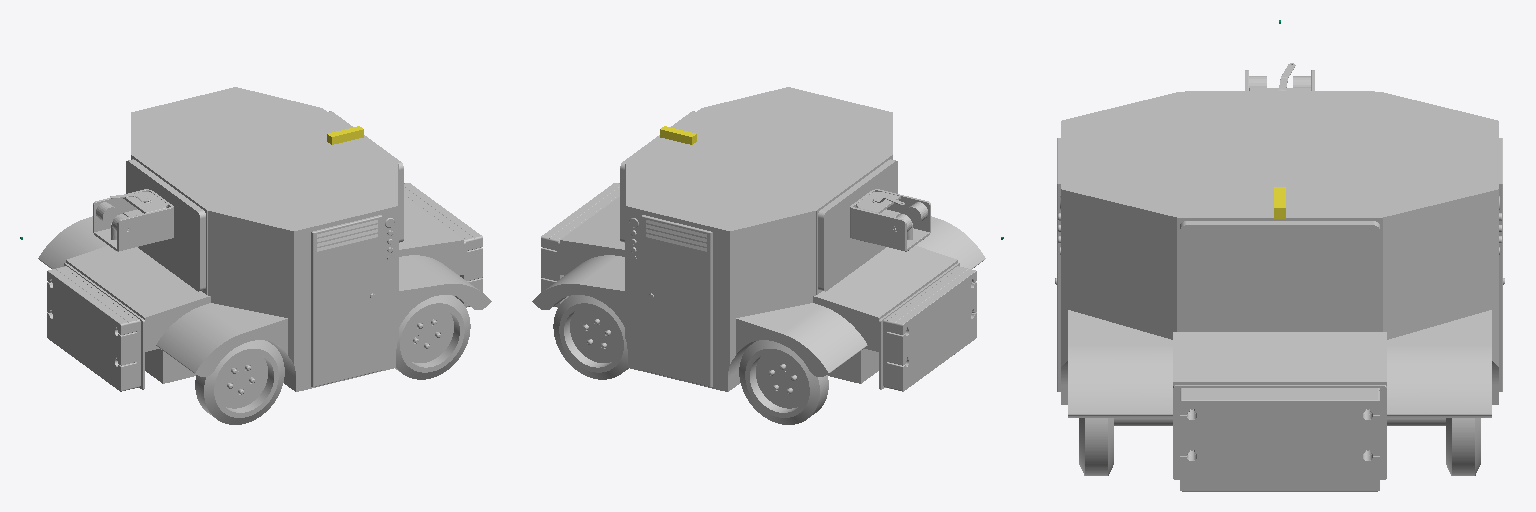
--- Render facts (derived) ---
Views: 3 orthographic renders of the robot side by side, from view 1: azimuth 30°, elevation 25°; view 2: azimuth 150°, elevation 25°; view 3: azimuth 270°, elevation 25°.
Model shunting_vehicle with 29 links and 28 joints (2 revolute, 12 continuous, 2 prismatic, 12 fixed), rooted at base_link, posed all joints at 0.
Visible links, largest first — view 1: body_green_link, mainbody_link, couplerbase_link, rear_right_wheel_white_link, front_right_wheel_white_link, rear_right_wheel_black_link, front_right_wheel_black_link; view 2: body_green_link, mainbody_link, couplerbase_link, rear_left_wheel_white_link, front_left_wheel_white_link, rear_left_wheel_black_link, front_left_wheel_black_link; view 3: body_green_link, mainbody_link, front_right_wheel_black_link, front_left_wheel_black_link, couplerbase_link.
Link boxes in pixels (x1,y1,x2,y2): body_green_link: [47, 87, 482, 391]; mainbody_link: [38, 211, 491, 391]; couplerbase_link: [93, 189, 173, 251]; rear_right_wheel_white_link: [215, 350, 277, 416]; front_right_wheel_white_link: [401, 305, 462, 370]; rear_right_wheel_black_link: [195, 340, 284, 424]; front_right_wheel_black_link: [395, 295, 470, 379]; body_green_link: [541, 87, 976, 391]; mainbody_link: [532, 211, 985, 391]; couplerbase_link: [850, 189, 930, 251]; rear_left_wheel_white_link: [746, 350, 808, 416]; front_left_wheel_white_link: [561, 305, 622, 370]; rear_left_wheel_black_link: [739, 340, 828, 424]; front_left_wheel_black_link: [553, 295, 628, 379]; body_green_link: [1061, 91, 1498, 491]; mainbody_link: [1055, 138, 1504, 417]; front_right_wheel_black_link: [1079, 418, 1113, 475]; front_left_wheel_black_link: [1446, 418, 1480, 475]; couplerbase_link: [1245, 63, 1314, 90].
Size in the robot's own frame: 2.63 by 1.79 by 1.17 metres.
Meshes: 8 distinct files referenced, 11 mesh visuals loaded (5 Collada DAE); not drawn: 4 (reference not matched to a file when rendering).

The robot description file, URDF, robot "shunting_vehicle":
<?xml version="1.0"?>
<robot name="shunting_vehicle">
    
    <material name="silver">
        <color rgba=".75 .75 .875 1"/>
    </material>
    <material name="white">
        <color rgba="1 1 1 1"/>
    </material>
            
    
    <gazebo>
        <plugin name="gazebo_ros_control" filename="libgazebo_ros_control.so">
            <robotNamespace>/shunting_vehicle</robotNamespace>
        </plugin>

        <plugin name="gazebo_ros_imu_controller" filename="libgazebo_ros_imu.so">
            <robotNamespace>/shunting_vehicle</robotNamespace>
            <topicName>imu/data</topicName>
            <serviceName>imu/service</serviceName>
            <bodyName>base_link</bodyName>
            <gaussianNoise>0</gaussianNoise>
            <rpyOffsets>0 0 0</rpyOffsets>
            <updateRate>10.0</updateRate>
            <alwaysOn>true</alwaysOn>
            <gaussianNoise>0</gaussianNoise>
        </plugin>
    </gazebo>
    
    <link name="base_link">
        <collision>
            <origin rpy="0 0 0" xyz="0 0 0"/>
            <geometry>
                <box size=".01 .01 .01"/>
            </geometry>
        </collision>
        
    </link>
    
    
    <!-- _______________________________________________ Body _______________________________________________ -->
    <link name="mainbody_link">
        <visual>
            <origin xyz="0 0 -0.4" rpy="0 0 0"/>
            <geometry>
                <mesh filename="package://shunting_vehicle_description/meshes/shunting_vehicle/body_white.dae" scale="1 1 1"/>
            </geometry>
        </visual>

        <collision>
            <origin xyz="0 0 0.4" rpy="0 0 0"/>
            <geometry>
                <box size="1.2 1.8 0.9"/>
            </geometry>
        </collision>


		<collision name='front_collision'>
			<origin rpy="0 0 0" xyz="0.85 0 0.14"/>
           	<geometry>
           		<box size="0.5 0.84 0.45"/> 
       		</geometry>
       	</collision>

       	<collision name='rear_collision'>
           	<origin rpy="0 0 0" xyz="-0.85 0 0.14"/>
           	<geometry>
           		<box size="0.5 0.84 0.45"/>
       		</geometry>
        </collision>
        <inertial>
            <origin xyz="0 0 0.35" rpy="0 0 0"/>
            <mass value="3400"/>
            <inertia ixx="700" iyy="1000" izz="1200" ixy="0" ixz="0" iyz="0"/>
        </inertial>
    </link>
    <gazebo reference="mainbody_link">
        <material>Gazebo/White</material>
    </gazebo>
    
    <joint name="fixed" type="fixed">
        <parent link="base_link"/>
        <child link="mainbody_link"/>
        <origin xyz="0 0 0" rpy="0 0 0"/>
    </joint>
    
    <link name="body_green_link">
        <visual>
            <origin xyz="0 0 -0.4" rpy="0 0 0"/>
            <geometry>
                <mesh filename="package://shunting_vehicle_description/meshes/shunting_vehicle/body_green5.dae" scale="1 1 1"/>
            </geometry>
        </visual>
    </link>
    <gazebo reference="body_green_link">
        <material>Gazebo/Green</material>
    </gazebo>
    
    <joint name="body_green_fixed" type="fixed">
        <parent link="base_link"/>
        <child link="body_green_link"/>
        <origin xyz="0 0 0" rpy="0 0 0"/>
    </joint>
    
    
    <!-- _______________________________________________ Gummirad vorne rechts _______________________________________________ -->

	<link name="front_right_wheel_white_link">
        <visual>
            <origin xyz="0 0 .35" rpy="-1.570796327 0 0"/>
            <geometry>
                <mesh filename="package://shunting_vehicle_description/meshes/shunting_vehicle/wheel_white.dae" scale="1 1 1"/>
            </geometry>
        </visual>
        <collision>
            <geometry>
                <cylinder length=".7" radius=".045"/>
            </geometry>
        </collision>

        <inertial>
            <mass value="35"/>
            <inertia ixx="1.447" iyy="1.447" izz=".035" ixy="0" ixz="0" iyz="0"/>
        </inertial>
    </link>

    <gazebo reference="front_right_wheel_white_link">
        <material>Gazebo/White</material>
    </gazebo>
    
    <joint name="front_right_wheel_white_joint" type="continuous">
        <parent link="mainbody_link"/>
        <child link="front_right_wheel_white_link"/>
        <origin rpy="-1.5708 0 0" xyz="0.575 -.35 0"/>
        <limit effort="2500" velocity="100" />
		<joint_properties damping="0.7"/>
		<axis xyz="0 0 1"/>
    </joint>
    
    <link name="front_right_wheel_black_link">
        <visual>
            <origin xyz="0 0 .73" rpy="-1.570796327 0 0"/>
            <geometry>
                <mesh filename="package://shunting_vehicle_description/meshes/shunting_vehicle/wheel_black.dae" scale="1 1 1"/>
            </geometry>
        </visual>
        <collision>
            <geometry>
                <cylinder length=".12" radius=".246"/>
            </geometry>
        </collision>
        <inertial>
            <mass value="30"/>
            <inertia ixx=".49" iyy=".49" izz=".91" ixy="0" ixz="0" iyz="0"/>
        </inertial>
    </link>
    <gazebo reference="front_right_wheel_black_link">
        <material>Gazebo/DarkGrey</material>
        <mu1 value="0.9"/>
        <mu2 value="0.9"/>
        <minDepth>0.01</minDepth>
        <!-- <slip1>0</slip1>
        <slip2>0</slip2> -->
    </gazebo>
    
    <joint name="front_right_wheel_black_joint" type="fixed">
        <parent link="front_right_wheel_white_link"/>
        <child link="front_right_wheel_black_link"/>
        <origin rpy="0 0 0" xyz=".0 0 -.38"/>
    </joint>

    <!-- _______________________________________________ Gummirad vorne links _______________________________________________ -->
    

    <link name="front_left_wheel_white_link">
        <visual>
            <origin xyz="0 0 -.35" rpy="1.570796327 0 0"/>
            <geometry>
                <mesh filename="package://shunting_vehicle_description/meshes/shunting_vehicle/wheel_white.dae" scale="1 1 1"/>
            </geometry>
        </visual>
        <collision>
            <geometry>
                <cylinder length=".7" radius=".045"/>
            </geometry>
        </collision>

        <inertial>
            <mass value="35"/>
            <inertia ixx="1.447" iyy="1.447" izz=".035" ixy="0" ixz="0" iyz="0"/>
        </inertial>
    </link>

    <gazebo reference="front_left_wheel_white_link">
        <material>Gazebo/White</material>
    </gazebo>
    
    <joint name="front_left_wheel_white_joint" type="continuous">
        <parent link="mainbody_link"/>
        <child link="front_left_wheel_white_link"/>
        <origin rpy="-1.5708 0 0" xyz="0.575 .35 0"/>
        <limit effort="2500" velocity="100" />
		<joint_properties damping="0.7"/>
		<axis xyz="0 0 1"/>
    </joint>
    
    <link name="front_left_wheel_black_link">
        <visual>
            <origin xyz="0 0 -.73" rpy="1.570796327 0 0"/>
            <geometry>
                <mesh filename="package://shunting_vehicle_description/meshes/shunting_vehicle/wheel_black.dae" scale="1 1 1"/>
            </geometry>
        </visual>
        <collision>
            <geometry>
                <cylinder length=".12" radius=".246"/>
            </geometry>
        </collision>
        <inertial>
            <mass value="30"/>
            <inertia ixx=".49" iyy=".49" izz=".91" ixy="0" ixz="0" iyz="0"/>
        </inertial>
    </link>
    <gazebo reference="front_left_wheel_black_link">
        <material>Gazebo/DarkGrey</material>
        <mu1 value="0.9"/>
        <mu2 value="0.9"/>
        <minDepth>0.01</minDepth>
        <!-- <slip1>0</slip1>
        <slip2>0</slip2> -->
    </gazebo>
    
    <joint name="front_left_wheel_black_joint" type="fixed">
        <parent link="front_left_wheel_white_link"/>
        <child link="front_left_wheel_black_link"/>
        <origin rpy="0 0 0" xyz=".0 0 .38"/>
    </joint>
    
    <!-- _______________________________________________ Gummirad hinten rechts _______________________________________________ -->

	<link name="rear_right_wheel_white_link">
        <visual>
            <origin xyz="0 0 .35" rpy="-1.570796327 0 0"/>
            <geometry>
                <mesh filename="package://shunting_vehicle_description/meshes/shunting_vehicle/wheel_white.dae" scale="1 1 1"/>
            </geometry>
        </visual>
        <collision>
            <geometry>
                <cylinder length=".7" radius=".045"/>
            </geometry>
        </collision>

        <inertial>
            <mass value="35"/>
            <inertia ixx="1.447" iyy="1.447" izz=".035" ixy="0" ixz="0" iyz="0"/>
        </inertial>
    </link>

    <gazebo reference="rear_right_wheel_white_link">
        <material>Gazebo/White</material>
    </gazebo>
    
    <joint name="rear_right_wheel_white_joint" type="continuous">
        <parent link="mainbody_link"/>
        <child link="rear_right_wheel_white_link"/>
        <origin rpy="-1.5708 0 0" xyz="-0.575 -.35 0"/>
        <limit effort="2500" velocity="100" />
		<joint_properties damping="0.7"/>
		<axis xyz="0 0 1"/>
    </joint>
    
    <link name="rear_right_wheel_black_link">
        <visual>
            <origin xyz="0 0 .73" rpy="-1.570796327 0 0"/>
            <geometry>
                <mesh filename="package://shunting_vehicle_description/meshes/shunting_vehicle/wheel_black.dae" scale="1 1 1"/>
            </geometry>
        </visual>
        <collision>
            <geometry>
                <cylinder length=".12" radius=".246"/>
            </geometry>
        </collision>
        <inertial>
            <mass value="30"/>
            <inertia ixx=".49" iyy=".49" izz=".91" ixy="0" ixz="0" iyz="0"/>
        </inertial>
    </link>
    <gazebo reference="rear_right_wheel_black_link">
        <material>Gazebo/DarkGrey</material>
        <mu1 value="0.9"/>
        <mu2 value="0.9"/>
        <minDepth>0.01</minDepth>
        <!-- <slip1>0</slip1>
        <slip2>0</slip2> -->
    </gazebo>
    
    <joint name="rear_right_wheel_black_joint" type="fixed">
        <parent link="rear_right_wheel_white_link"/>
        <child link="rear_right_wheel_black_link"/>
        <origin rpy="0 0 0" xyz=".0 0 -.38"/>
    </joint>

    <!-- _______________________________________________ Gummirad hinten links _______________________________________________ -->

	<link name="rear_left_wheel_white_link">
        <visual>
            <origin xyz="0 0 -.35" rpy="1.570796327 0 0"/>
            <geometry>
                <mesh filename="package://shunting_vehicle_description/meshes/shunting_vehicle/wheel_white.dae" scale="1 1 1"/>
            </geometry>
        </visual>
        <collision>
            <geometry>
                <cylinder length=".7" radius=".045"/>
            </geometry>
        </collision>

        <inertial>
            <mass value="35"/>
            <inertia ixx="1.447" iyy="1.447" izz=".035" ixy="0" ixz="0" iyz="0"/>
        </inertial>
    </link>

    <gazebo reference="rear_left_wheel_white_link">
        <material>Gazebo/White</material>
    </gazebo>
    
    <joint name="rear_left_wheel_white_joint" type="continuous">
        <parent link="mainbody_link"/>
        <child link="rear_left_wheel_white_link"/>
        <origin rpy="-1.5708 0 0" xyz="-0.575 .35 0"/>
        <limit effort="2500" velocity="100" />
		<joint_properties damping="0.7"/>
		<axis xyz="0 0 1"/>
    </joint>
    
    <link name="rear_left_wheel_black_link">
        <visual>
            <origin xyz="0 0 -.73" rpy="1.570796327 0 0"/>
            <geometry>
                <mesh filename="package://shunting_vehicle_description/meshes/shunting_vehicle/wheel_black.dae" scale="1 1 1"/>
            </geometry>
        </visual>
        <collision>
            <geometry>
                <cylinder length=".12" radius=".246"/>
            </geometry>
        </collision>
        <inertial>
            <mass value="30"/>
            <inertia ixx=".49" iyy=".49" izz=".91" ixy="0" ixz="0" iyz="0"/>
        </inertial>
    </link>
    <gazebo reference="front_left_wheel_black_link">
        <material>Gazebo/DarkGrey</material>
        <mu1 value="0.9"/>
        <mu2 value="0.9"/>
        <minDepth>0.01</minDepth>
        <!-- <slip1>0</slip1>
        <slip2>0</slip2> -->
    </gazebo>
    
    <joint name="rear_left_wheel_black_joint" type="fixed">
        <parent link="rear_left_wheel_white_link"/>
        <child link="rear_left_wheel_black_link"/>
        <origin rpy="0 0 0" xyz=".0 0 .38"/>
    </joint>
    
    
    <!-- _______________________________________________ Spurführungsrad-Achse vorne _______________________________________________ -->    
    
   
    <link name="front_axle_link">
        <visual>
            <origin xyz="0 0 0" rpy="0 0 0"/>
            <geometry>
                <mesh filename="package://shunting_vehicle_description/meshes/shunting_vehicle/axle_black.dae" scale="1 1 1"/>
            </geometry>
        </visual>
        <collision>
            <geometry>
                <box size=".1 1.65 .1"/>
            </geometry>
        </collision>
        <inertial>
            <mass value="47.5"/>
            <inertia ixx="11.385" iyy=".083" izz="11.385" ixy="0" ixz="0" iyz="0"/>
        </inertial>
    </link>
    <gazebo reference="front_axle_link">
        <material>Gazebo/DarkGrey</material>
    </gazebo>
    
    <joint name="front_axle_joint" type="prismatic">
        <parent link="base_link"/>
        <child link="front_axle_link"/>
        <origin rpy="0 0 0" xyz="0.930109 0 -.026"/>
		<limit effort="1000" velocity="0.08" lower="0" upper="0.1" />
		<joint_properties damping="0.7"/>
		<axis xyz="0 0 1"/>
    </joint>
    
    <link name="front_axle_right_wheel_link">
        <collision>
            <geometry>
                <cylinder length=".08" radius=".06"/>
            </geometry>
        </collision>
        <inertial>
            <mass value="10"/>
            <inertia ixx=".014" iyy=".014" izz=".018" ixy="0" ixz="0" iyz="0"/>
        </inertial>
    </link>
    
    <joint name="front_axle_right_wheel_joint" type="continuous">
        <parent link="front_axle_link"/>
        <child link="front_axle_right_wheel_link"/>
        <origin rpy="1.570796327 0 0" xyz="0 -.75 -.16"/>
		<limit effort="100" velocity="1" />
		<axis xyz="0 0 1"/>
    </joint>
    
    <link name="front_axle_guide_r_link">
        <inertial>
            <mass value="1"/>
            <inertia ixx=".0233333" iyy=".0233333" izz=".005" ixy="0" ixz="0" iyz="0"/>
        </inertial>
        <collision>
            <geometry>
                <cylinder length="0.06" radius=".015"/>
            </geometry>
        </collision>
    </link>
    
    <link name="front_axle_left_wheel_link">
        <collision>
            <geometry>
                <cylinder length=".08" radius=".06"/>
            </geometry>
        </collision>
        <inertial>
            <mass value="10"/>
            <inertia ixx=".014" iyy=".014" izz=".018" ixy="0" ixz="0" iyz="0"/>
        </inertial>
    </link>
    
    <joint name="front_axle_left_wheel_joint" type="continuous">
        <parent link="front_axle_link"/>
        <child link="front_axle_left_wheel_link"/>
        <origin rpy="1.570796327 0 0" xyz="0 .75 -.16"/>
		<limit effort="100" velocity="1" />
		<axis xyz="0 0 1"/>
    </joint>
    
    <gazebo reference="front_axle_guide_r_link">
        <mu1>0</mu1>
        <mu2>0</mu2>
    </gazebo>
    
    <joint name="front_axle_guide_r_joint" type="continuous">
        <parent link="front_axle_link"/>
        <child link="front_axle_guide_r_link"/>
        <origin rpy="0 0 0" xyz="0 -.698 -.23"/>
        <axis xyz="0 0 1"/>
    </joint>
    
    <link name="front_axle_guide_l_link">
        <inertial>
            <mass value="1"/>
            <inertia ixx=".0233333" iyy=".0233333" izz=".005" ixy="0" ixz="0" iyz="0"/>
        </inertial>
        <collision>
            <geometry>
                <cylinder length="0.06" radius=".015"/>
            </geometry>
        </collision>
    </link>
    
    <gazebo reference="front_axle_guide_l_link">
        <mu1>0</mu1>
        <mu2>0</mu2>
    </gazebo>
    
    <joint name="front_axle_guide_l_joint" type="continuous">
        <parent link="front_axle_link"/>
        <child link="front_axle_guide_l_link"/>
        <origin rpy="0 0 0" xyz="0 .698 -.23"/>
        <axis xyz="0 0 1"/>
    </joint>  
    
     <!-- _______________________________________________ Spurführungsrad-Achse hinten _______________________________________________ -->    
    
   
    <link name="rear_axle_link">
        <visual>
            <origin xyz="0 0 0" rpy="0 0 0"/>
            <geometry>
                <mesh filename="package://shunting_vehicle_description/meshes/shunting_vehicle/axle_black.dae" scale="1 1 1"/>
            </geometry>
        </visual>
        <collision>
            <geometry>
                <box size=".1 1.65 .1"/>
            </geometry>
        </collision>
        <inertial>
            <mass value="47.5"/>
            <inertia ixx="11.385" iyy=".083" izz="11.385" ixy="0" ixz="0" iyz="0"/>
        </inertial>
    </link>
    <gazebo reference="rear_axle_link">
        <material>Gazebo/DarkGrey</material>
    </gazebo>
    
    <joint name="rear_axle_joint" type="prismatic">
        <parent link="base_link"/>
        <child link="rear_axle_link"/>
        <origin rpy="0 0 3.141592654" xyz="-0.930109 0 -.026"/>
		<limit effort="1000" velocity="0.08" lower="0" upper="0.1" />
		<joint_properties damping="0.7"/>
		<axis xyz="0 0 1"/>
    </joint>
    
    <link name="rear_axle_right_wheel_link">
        <collision>
            <geometry>
                <cylinder length=".08" radius=".06"/>
            </geometry>
        </collision>
        <inertial>
            <mass value="10"/>
            <inertia ixx=".014" iyy=".014" izz=".018" ixy="0" ixz="0" iyz="0"/>
        </inertial>
    </link>
    
    <joint name="rear_axle_right_wheel_joint" type="continuous">
        <parent link="rear_axle_link"/>
        <child link="rear_axle_right_wheel_link"/>
        <origin rpy="1.570796327 0 0" xyz="0 .75 -.16"/>
		<limit effort="100" velocity="1" />
		<axis xyz="0 0 1"/>
    </joint>
       
    <link name="rear_axle_guide_r_link">
        <inertial>
            <mass value="1"/>
            <inertia ixx=".0233333" iyy=".0233333" izz=".005" ixy="0" ixz="0" iyz="0"/>
        </inertial>
        <collision>
            <geometry>
                <cylinder length="0.06" radius=".015"/>
            </geometry>
        </collision>
    </link>
 
    <gazebo reference="rear_axle_guide_r_link">
        <mu1>0</mu1>
        <mu2>0</mu2>
    </gazebo>
    
    <joint name="rear_axle_guide_r_joint" type="continuous">
        <parent link="rear_axle_link"/>
        <child link="rear_axle_guide_r_link"/>
        <origin rpy="0 0 0" xyz="0 .698 -.23"/>
        <axis xyz="0 0 1"/>
    </joint>
    
    
    <link name="rear_axle_left_wheel_link">
        <collision>
            <geometry>
                <cylinder length=".08" radius=".06"/>
            </geometry>
        </collision>
        <inertial>
            <mass value="10"/>
            <inertia ixx=".014" iyy=".014" izz=".018" ixy="0" ixz="0" iyz="0"/>
        </inertial>
    </link>
    
    <joint name="rear_axle_left_wheel_joint" type="continuous">
        <parent link="rear_axle_link"/>
        <child link="rear_axle_left_wheel_link"/>
        <origin rpy="1.570796327 0 0" xyz="0 -.75 -.16"/>
		<limit effort="100" velocity="1" />
		<axis xyz="0 0 1"/>
    </joint>
    
    <link name="rear_axle_guide_l_link">
        <inertial>
            <mass value="1"/>
            <inertia ixx=".0233333" iyy=".0233333" izz=".005" ixy="0" ixz="0" iyz="0"/>
        </inertial>
        <collision>
            <geometry>
                <cylinder length="0.06" radius=".015"/>
            </geometry>
        </collision>
    </link>
    
    <gazebo reference="rear_axle_guide_l_link">
        <mu1>0</mu1>
        <mu2>0</mu2>
    </gazebo>
    
    <joint name="rear_axle_guide_l_joint" type="continuous">
        <parent link="rear_axle_link"/>
        <child link="rear_axle_guide_l_link"/>
        <origin rpy="0 0 0" xyz="0 -.698 -.23"/>
        <axis xyz="0 0 1"/>
    </joint> 
    
    
    
    
    <!-- _______________________________________________ Kupplung _______________________________________________ -->
    
       
    
    <link name="couplerbase_link">
        <visual>
            <origin xyz="-.724 0 .6" rpy="0 0 3.141592654"/>
            <geometry>
                <mesh filename="package://shunting_vehicle_description/meshes/shunting_vehicle/E2_Kupplung_Basis.dae" scale="1 1 1"/>
            </geometry>
        </visual>
        <inertial>
            <origin xyz="-.724 0 0.6" rpy="0 0 0"/>
            <mass value="30"/>
            <inertia ixx="1" iyy="1" izz="1" ixy="0" ixz="0" iyz="0"/>
        </inertial>
    </link>
    <gazebo reference="couplerbase_link">
        <material>Gazebo/DarkGrey</material>
    </gazebo>
    
    <joint name="body_couplerbase_joint" type="fixed">
        <parent link="mainbody_link"/>
        <child link="couplerbase_link"/>
    </joint>
    
    <link name="couplermouth_link">
        <visual>
            <origin xyz="0 0 0" rpy="0 0 3.141592654"/>
            <geometry>
                <mesh filename="package://shunting_vehicle_description/meshes/shunting_vehicle/E2_Kupplung_Maul.dae" scale="1 1 1"/>
            </geometry>
        </visual>

        <inertial>
            <origin xyz="0 0 .1445" rpy="0 0 0"/>
            <mass value="40"/>
            <inertia ixx="0.5" iyy=".5" izz=".8" ixy="0" ixz="0" iyz="0"/>
        </inertial>
    </link>
    <gazebo reference="couplermouth_link">
        <material>Gazebo/Yellow</material>
    </gazebo>
    
    <joint name="couplerbase_couplermouth_joint" type="revolute">
        <parent link="couplerbase_link"/>
        <child link="couplermouth_link"/>
        <origin rpy="0 0 0" xyz="-.724 0 .6"/>
        <limit lower="-.15" upper=".15" effort="1.0" velocity="0.5"/>
        <axis xyz="0 0 1"/>
    </joint>    
    
     <link name="coupler_link">

        <collision name='coupling_collision'>
            <origin xyz="0 0 0" rpy="0 0 0"/>
            <geometry>
                <box size="1.0 0.3 .3"/>
            </geometry>
		</collision>
        <inertial>
            	<origin xyz="0 0 .1445" rpy="0 0 0"/>
            	<mass value="40"/>
            <inertia ixx="0.5" iyy=".5" izz=".8" ixy="0" ixz="0" iyz="0"/>
        </inertial>
        
     </link>

    
    <joint name="coupler_link_joint" type="revolute">
        <parent link="mainbody_link"/>
        <child link="coupler_link"/>
        <origin rpy="0 0 0" xyz="-1 0 .7"/>
        <limit lower="-.25" upper=".25" effort="1.0" velocity="0.5"/>
        <axis xyz="0 0 1"/>
    </joint>   
  <!-- _______________________________________________ Sensorik _______________________________________________ -->
      
	<link name="laser_link">
    	<collision>
          <origin xyz="0 0 0" rpy="0 0 0"/>
          <geometry>
              <box size="0.105 0.102 0.162"/>
          </geometry>
    	</collision>
    	<visual>
    	  <origin rpy="0 0 0" xyz="0 0 0"/>
    	  <geometry>
            <mesh filename="package://shunting_vehicle_description/meshes/lidars/SICK_LMS111-10100.dae"/>            
    	  </geometry>
    	</visual>
    	<inertial>
          <origin xyz="0 0 0" rpy="0 0 0"/>
          <mass value="1.1" />
          <inertia ixx="0.0033594" ixy="0.0" ixz="0.0" iyy="0.003416" iyz="0.0" izz="0.0019643"/>
    	</inertial>
  	</link>
  	<joint name="laser_joint" type="fixed">
    	<axis xyz="0 1 0"/>
    	<!-- <origin rpy="0 0 0" xyz="0 0 1.4"/> -->
    	<origin rpy="0 0.785 0" xyz="1.105 0  0.398"/>
    	<parent link="base_link"/>
    	<child link="laser_link"/>
  	</joint>

  	<gazebo reference="laser_link">
    	<mu1>0</mu1>
    	<mu2>0</mu2>
    	<material>Gazebo/Red</material>
    	<sensor name="laser_sensor" type="ray">
    	  <pose>0 0 0 0 0 0</pose>
    	  <visualize>true</visualize>
    	  <update_rate>25</update_rate>
    	  <ray>
    	    <scan>
    	      <horizontal>
    	        <samples>720</samples>
    	        <resolution>1</resolution>
    	        <min_angle>-1.570796</min_angle>
    	        <max_angle>1.570796</max_angle>
    	      </horizontal>
    	    </scan>
    	    <range>
    	      <min>0.5</min>
    	      <max>20.0</max>
    	      <resolution>0.012</resolution>
    	    </range>
    	    <noise>
    	      <type>gaussian</type>
    	      <mean>0.0</mean>
    	      <stddev>0.01</stddev>
    	    </noise>
    	  </ray>
    	  <plugin filename="libgazebo_ros_laser.so" name="gazebo_ros_front_laser_controller">
    	    <topicName>/shunting_vehicle/laser/scan</topicName>
    	    <frameName>laser_link</frameName>
    	  </plugin>
    	</sensor>
  	</gazebo>

	<link name="front_laser_link">
    	<collision>
    	  <origin rpy="0 0 0" xyz="0 0 0"/>
    	  <geometry>
    	    <box size="0.01 0.01 0.01"/>
    	  </geometry>
    	</collision>
    	<visual>
    	  <origin rpy="0 0 0" xyz="0 0 0"/>
    	  <geometry>
    	    <box size="0.01 0.01 0.01"/>
    	  </geometry>
    	</visual>
    	<inertial>
    	  <mass value="1e-5"/>
    	  <origin rpy="0 0 0" xyz="0 0 0"/>
    	  <inertia ixx="1e-6" ixy="0" ixz="0" iyy="1e-6" iyz="0" izz="1e-6"/>
    	</inertial>
  	</link>
  	<joint name="front_laser_joint" type="fixed">
    	<axis xyz="0 1 0"/>
    	<origin rpy="0 0 0" xyz="1.105 0  0.25"/>
    	<parent link="base_link"/>
    	<child link="front_laser_link"/>
  	</joint>
  	<gazebo reference="front_laser_link">
    	<mu1>0</mu1>
    	<mu2>0</mu2>
    	<material>Gazebo/Red</material>
    	<sensor name="front_laser_sensor" type="ray">
    	  <pose>0 0 0 0 0 0</pose>
    	  <visualize>false</visualize>
    	  <update_rate>40</update_rate>
    	  <ray>
    	    <scan>
    	      <horizontal>
    	        <samples>720</samples>
    	        <resolution>1</resolution>
    	        <min_angle>-1.570796</min_angle>
    	        <max_angle>1.570796</max_angle>
    	      </horizontal>
    	    </scan>
    	    <range>
    	      <min>0.010</min>
    	      <max>30.0</max>
    	      <resolution>0.01</resolution>
    	    </range>
    	    <noise>
    	      <type>gaussian</type>
    	      <!--Noise parameters based on published spec for Hokuyo laser
								achieving "+-30mm" accuracy at range < 10m.  A mean of 0.0m and
								stddev of 0.01m will put 99.7% of samples within 0.03m of the true
								reading.-->
    	      <mean>0.0</mean>
    	      <stddev>0.01</stddev>
    	    </noise>
    	  </ray>
    	  <plugin filename="libgazebo_ros_laser.so" name="gazebo_ros_front_laser_controller">
    	    <topicName>/shunting_vehicle/laser/front/scan</topicName>
    	    <frameName>front_laser_link</frameName>
    	  </plugin>
    	</sensor>
  	</gazebo>

  	<link name="rear_laser_link">
    	<collision>
    	  <origin rpy="0 0 0" xyz="0 0 0"/>
    	  <geometry>
    	    <box size="0.01 0.01 0.01"/>
    	  </geometry>
    	</collision>
    	<visual>
    	  <origin rpy="0 0 0" xyz="0 0 0"/>
    	  <geometry>
    	    <box size="0.01 0.01 0.01"/>
    	  </geometry>
    	</visual>
    	<inertial>
    	  <mass value="1e-5"/>
    	  <origin rpy="0 0 0" xyz="0 0 0"/>
    	  <inertia ixx="1e-6" ixy="0" ixz="0" iyy="1e-6" iyz="0" izz="1e-6"/>
    	</inertial>
  	</link>
  	<joint name="rear_laser_joint" type="fixed">
    	<axis xyz="0 1 0"/>
    	<origin rpy="0 0 3.141592" xyz="-0.78 0  0.15"/>
    	<parent link="couplermouth_link"/>
    	<child link="rear_laser_link"/>
  	</joint>
  	<gazebo reference="rear_laser_link">
    	<mu1>0</mu1>
    	<mu2>0</mu2>
    	<material>Gazebo/Red</material>
    	<sensor name="rear_laser_sensor" type="ray">
      		<pose>0 0 0 0 0 0</pose>
      		<visualize>false</visualize>
      		<update_rate>40</update_rate>
      		<ray>
       	 		<scan>
        			<horizontal>
        				<samples>720</samples>
        				<resolution>1</resolution>
        				<min_angle>-1.570796</min_angle>
        				<max_angle>1.570796</max_angle>
        		  	</horizontal>
        		</scan>
        		<range>
        	  		<min>0.010</min>
        	  		<max>30.0</max>
        	  	<resolution>0.01</resolution>
        		</range>
        		<noise>
        	  		<type>gaussian</type>
        	  		<!--Noise parameters based on published spec for Hokuyo laser
								achieving "+-30mm" accuracy at range < 10m.  A mean of 0.0m and
								stddev of 0.01m will put 99.7% of samples within 0.03m of the true
								reading.-->
        	  	<mean>0.0</mean>
        	  	<stddev>0.01</stddev>
        		</noise>
      		</ray>
      		<plugin filename="libgazebo_ros_laser.so" name="gazebo_ros_rear_laser_controller">
        		<topicName>/shunting_vehicle/laser/rear/scan</topicName>
        		<frameName>rear_laser_link</frameName>
      		</plugin>
    	</sensor>
  	</gazebo>

	<link name="camera_link">
		<!-- Inertial for gazebo to take it into account, Put 1gr weight -->
		<inertial>
			<origin xyz="0 0 0" rpy="0 0 0"/>
			<mass value="0.001" />
			<inertia ixx="9.1875e-09" ixy="0.0" ixz="0.0" iyy="9.1875e-09" iyz="0.0" izz="1.378125e-08"/>
		</inertial>
		<visual>
			<origin rpy="0 0 0" xyz="-0.1 0 0"/>
			<geometry>
				<box size="0.2 0.05 0.05"/>
			</geometry>
		</visual>
	</link>

	<link name="camera_frame_optical"/>

	<joint name="camera_optical_joint" type="fixed">
			<origin xyz="0 0 0" rpy="-1.5708 0 -1.5708"/>
			<parent link="camera_link"/>
			<child link="camera_frame_optical"/>
	</joint>

	<gazebo reference="camera_link">
		
		<mu1>0</mu1>
		<mu2>0</mu2>
		<material>Gazebo/Red</material>
		<sensor type="depth" name="camera">
			<update_rate>30.0</update_rate>
			<camera name="head">
				<pose>0 0 0 0 0 0</pose>
				<horizontal_fov>1.3962634</horizontal_fov>
				<image>
					<width>1024</width>
					<height>768</height>
					<format>R8G8B8</format>
				</image>
				<clip>
					<near>0.05</near>
					<far>200</far>
				</clip>
				<noise>
					<type>gaussian</type>
					<stddev>0.007</stddev>
				</noise>
			</camera>
			<plugin name="camera_plugin" filename="libgazebo_ros_openni_kinect.so">
				<baseline>0.2</baseline>
				<alwaysOn>true</alwaysOn>
				<!-- Keep this zero, update_rate in the parent <sensor> tag
				will control the frame rate. -->
				<updateRate>0.0</updateRate>
				<cameraName>shunting_vehicle/camera</cameraName>
				<imageTopicName>/camera/color/image_raw</imageTopicName>
				<cameraInfoTopicName>/camera/color/camera_info</cameraInfoTopicName>
				<depthImageTopicName>/camera/depth/image_raw</depthImageTopicName>
				<depthImageCameraInfoTopicName>/camera/depth/camera_info</depthImageCameraInfoTopicName>
				<pointCloudTopicName>/camera/depth/points</pointCloudTopicName>
				<frameName>camera_frame_optical</frameName>
				<pointCloudCutoff>0.05</pointCloudCutoff>
				<pointCloudCutoffMax>30.0</pointCloudCutoffMax>
				<distortionK1>0</distortionK1>
				<distortionK2>0</distortionK2>
				<distortionK3>0</distortionK3>
				<distortionT1>0</distortionT1>
				<distortionT2>0</distortionT2>
				<CxPrime>0</CxPrime>
				<Cx>0</Cx>
				<Cy>0</Cy>
				<focalLength>0</focalLength>
				<hackBaseline>0</hackBaseline>
			</plugin>
		</sensor>
	</gazebo>

    <joint name="base_camera_joint" type="fixed">
        <parent link="base_link"/>
        <child link="camera_link"/>
        <origin rpy="0 0 0" xyz="0.6 0 0.89"/>
    </joint>


<!-- _______________________________________________ Driver _______________________________________________ -->

	<!-- <gazebo>
		<plugin name="skid_steer_drive_controller" filename="libgazebo_ros_skid_steer_drive.so">
			<updateRate>100.0</updateRate>
			<leftFrontJoint>front_left_wheel_white_joint</leftFrontJoint>
			<rightFrontJoint>front_right_wheel_white_joint</rightFrontJoint>
			<leftRearJoint>rear_left_wheel_white_joint</leftRearJoint>
			<rightRearJoint>rear_left_wheel_white_joint</rightRearJoint>
			<MaxForce>50</MaxForce>
			<robotBaseFrame>base_link</robotBaseFrame>
			<robotNamespace>/</robotNamespace>
			<torque>1000</torque>
			<commandTopic>cmd_vel</commandTopic>
			<odometryTopic>odom</odometryTopic>
			<odometryFrame>odom</odometryFrame>
			<broadcastTF>true</broadcastTF>
			<wheelSeparation>1.15</wheelSeparation>
			<wheelDiameter>0.492</wheelDiameter>
			<covariance_x>0.00001</covariance_x>
			<covariance_y>0.00001</covariance_y>
			<covariance_yaw>0.01</covariance_yaw>
		</plugin>
	</gazebo> -->

<!-- ____________________________________________________ Transmission _________________________________________________ -->

    <transmission name="tran1">
        <type>transmission_interface/SimpleTransmission</type>
        <joint name="front_left_wheel_white_joint">
            <hardwareInterface>hardware_interface/VelocityJointInterface</hardwareInterface>
        </joint>
        <actuator name="motor1">
            <hardwareInterface>hardware_interface/VelocityJointInterface</hardwareInterface>
            <mechanicalReduction>1</mechanicalReduction>
        </actuator>
    </transmission>

    <transmission name="tran2">
        <type>transmission_interface/SimpleTransmission</type>
        <joint name="front_right_wheel_white_joint">
            <hardwareInterface>hardware_interface/VelocityJointInterface</hardwareInterface>
        </joint>
        <actuator name="motor2">
            <hardwareInterface>hardware_interface/VelocityJointInterface</hardwareInterface>
            <mechanicalReduction>1</mechanicalReduction>
        </actuator>
    </transmission>

    <transmission name="tran3">
        <type>transmission_interface/SimpleTransmission</type>
        <joint name="rear_left_wheel_white_joint">
            <hardwareInterface>hardware_interface/VelocityJointInterface</hardwareInterface>
        </joint>
        <actuator name="motor3">
            <hardwareInterface>hardware_interface/VelocityJointInterface</hardwareInterface>
            <mechanicalReduction>1</mechanicalReduction>
        </actuator>
    </transmission>

    <transmission name="tran4">
        <type>transmission_interface/SimpleTransmission</type>
        <joint name="rear_right_wheel_white_joint">
            <hardwareInterface>hardware_interface/VelocityJointInterface</hardwareInterface>
        </joint>
        <actuator name="motor4">
            <hardwareInterface>hardware_interface/VelocityJointInterface</hardwareInterface>
            <mechanicalReduction>1</mechanicalReduction>
        </actuator>
    </transmission>

    <transmission name="tran5">
        <type>transmission_interface/SimpleTransmission</type>
        <joint name="front_axle_joint">
            <hardwareInterface>hardware_interface/EffortJointInterface</hardwareInterface>
        </joint>
        <actuator name="motor5">
            <hardwareInterface>hardware_interface/EffortJointInterface</hardwareInterface>
            <mechanicalReduction>1</mechanicalReduction>
        </actuator>
    </transmission>

    <transmission name="tran6">
        <type>transmission_interface/SimpleTransmission</type>
        <joint name="rear_axle_joint">
            <hardwareInterface>hardware_interface/EffortJointInterface</hardwareInterface>
        </joint>
        <actuator name="motor6">
            <hardwareInterface>hardware_interface/EffortJointInterface</hardwareInterface>
            <mechanicalReduction>1</mechanicalReduction>
        </actuator>
    </transmission>

</robot>
